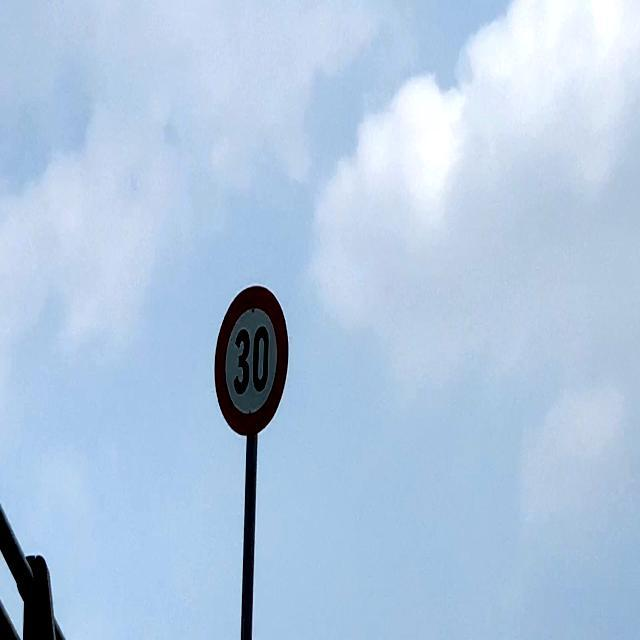P-127: (216, 284, 292, 433)
